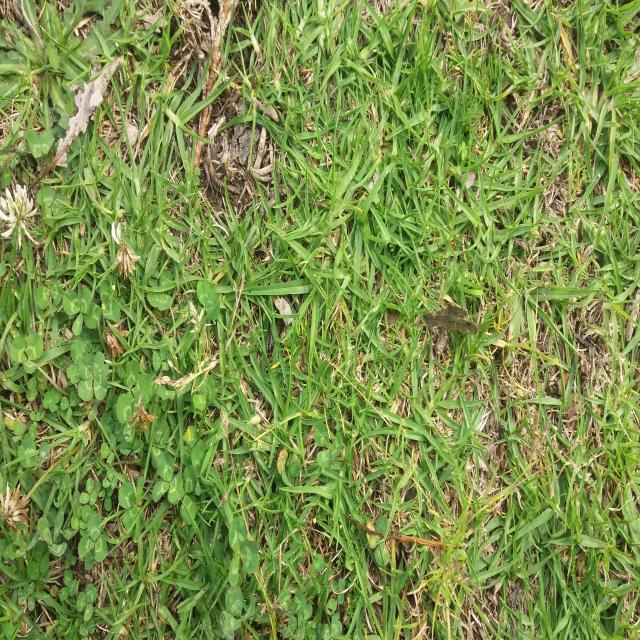Four Leaf Clover: (77, 351, 109, 401), (205, 177, 245, 207)
